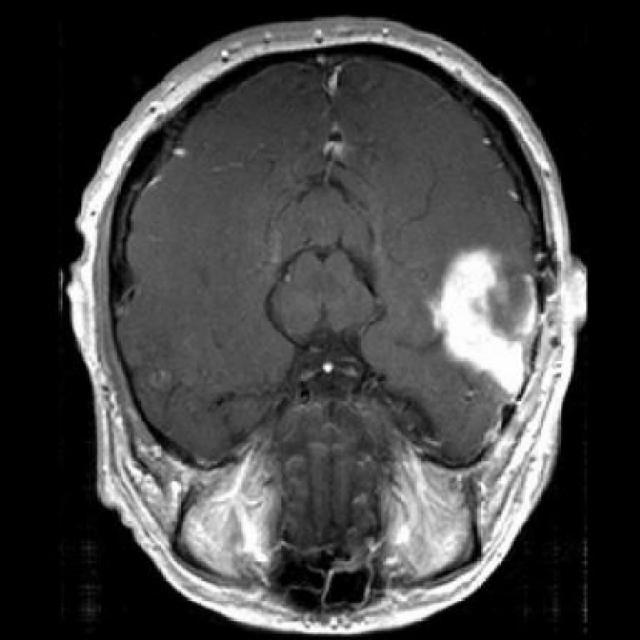Brain-Tumor: (408, 228, 558, 406)
